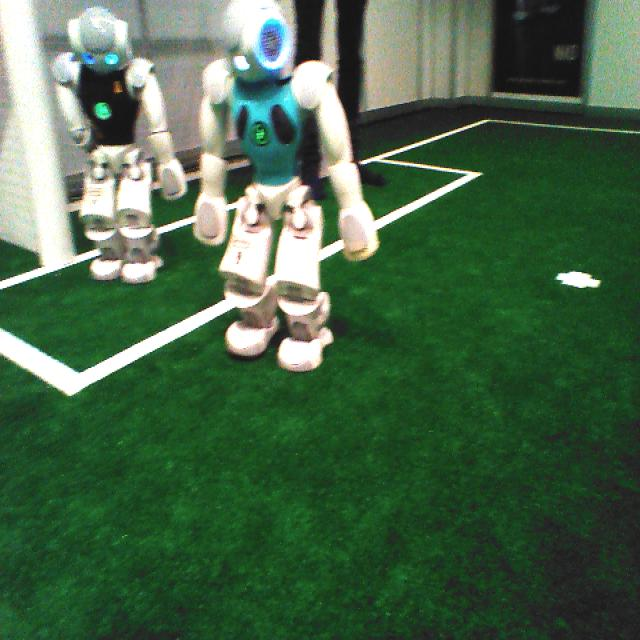goalpost: (0, 2, 76, 266)
